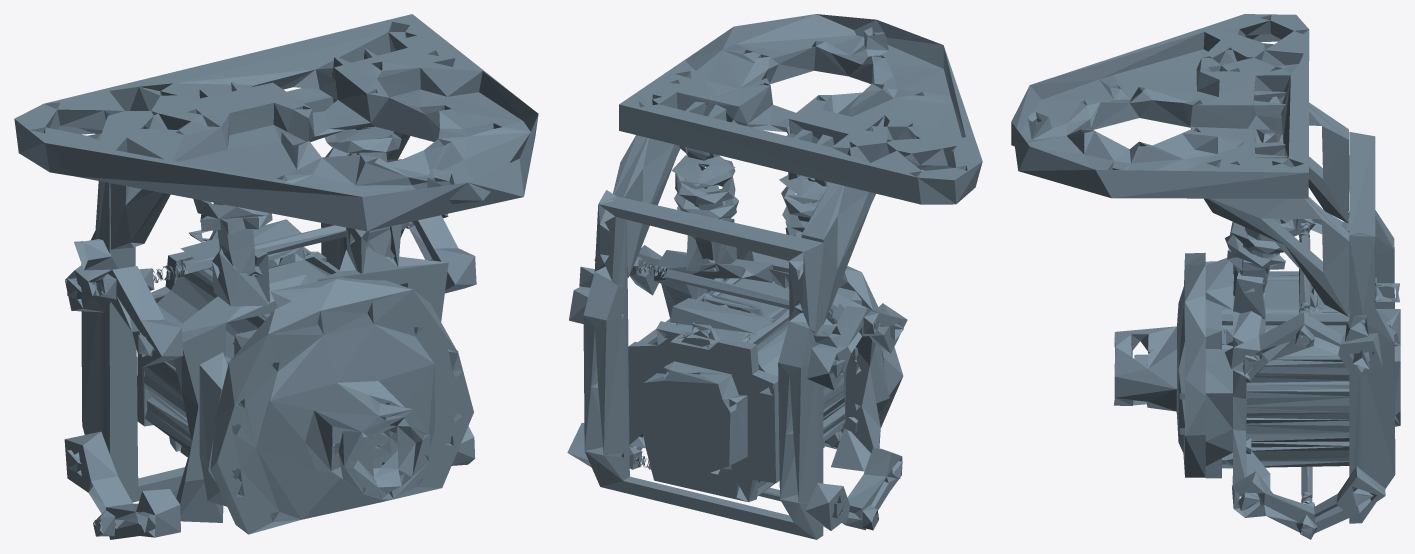
The model's file is steer_RR.dae.
3 renders of one model, left to right at view 1: azimuth 30°, elevation 25°; view 2: azimuth 150°, elevation 25°; view 3: azimuth 270°, elevation 25°, orthographic. The views are drawn at different scales.
Parts seen in each view (by area): view 1: node; view 2: node; view 3: node.
Part boxes in pixels (x1,y1,x2,y2): node: (14,14,538,539); node: (567,14,982,539); node: (1011,14,1400,539).
Bounding box in the file's own units: 0.3096 × 0.2997 × 0.3061.
